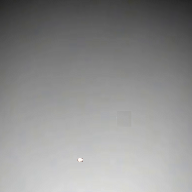Target: (76, 156, 84, 163)
